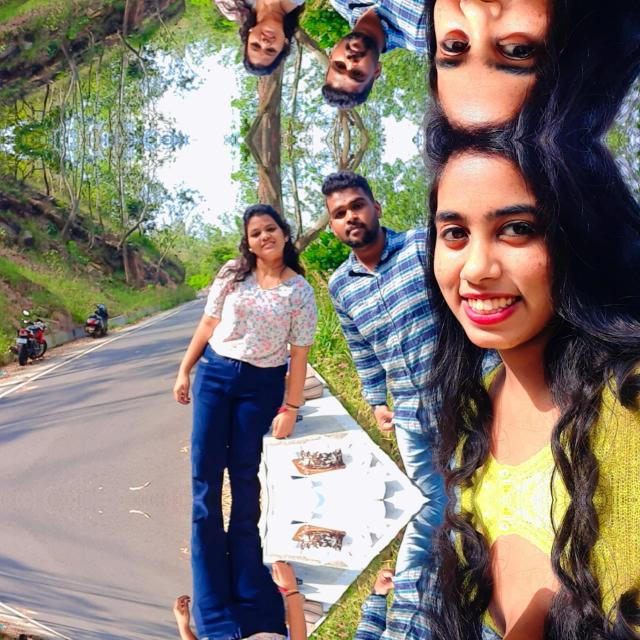person: (429, 140, 631, 486), (429, 0, 631, 140), (319, 172, 429, 406), (429, 514, 631, 640), (198, 186, 296, 440), (319, 0, 429, 108), (198, 0, 296, 94), (198, 559, 296, 640), (319, 593, 429, 640)
